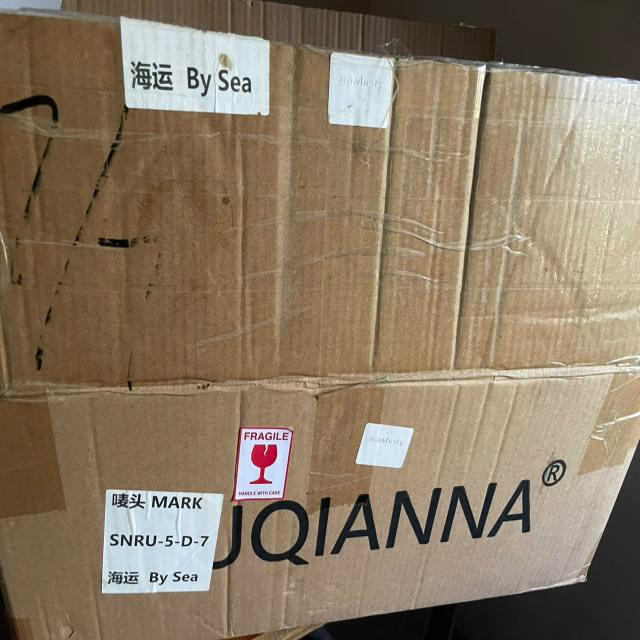carton_box: (0, 1, 640, 640)
export_mark_label: (95, 483, 220, 601)
fragile_label: (226, 415, 306, 510)
